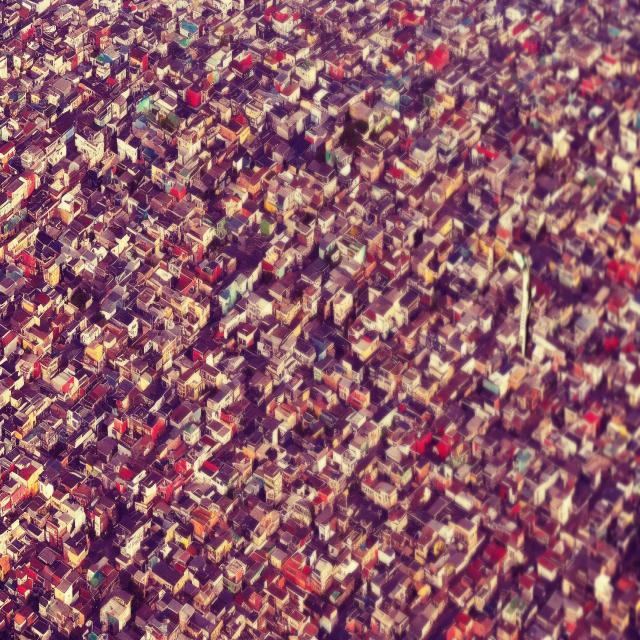airplane: (512, 248, 530, 357)
